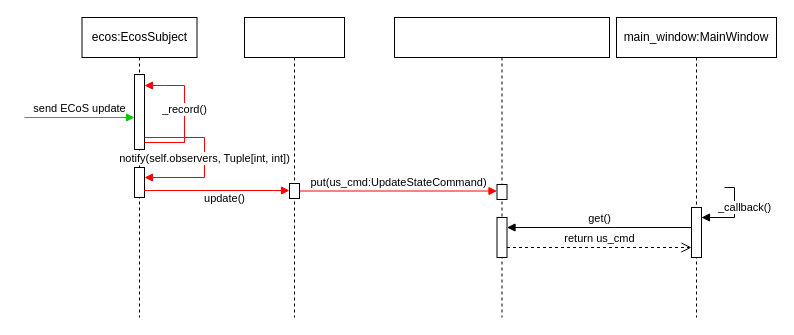
Image size: 794x335. Some labels were removed from this diagram. Here are the shapes that lost their labels. From the top down, the box of each, then its label:
(244, 16, 344, 318): :EcosObsever
(394, 16, 610, 318): command_queue:Queue[Command]
